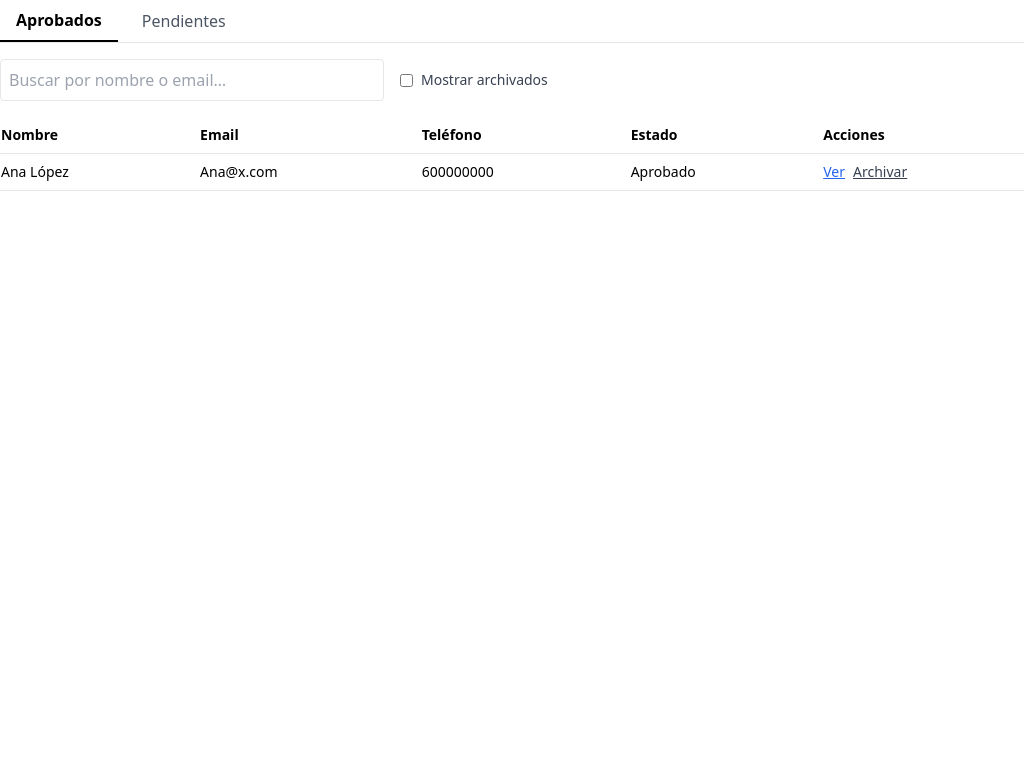
Test: AgendaTabs › opens worker detail modal on Ver click
The width and height of the screenshot is (1024, 768).
Click the button "Ver" at (834, 172), box [823,162,845,182]
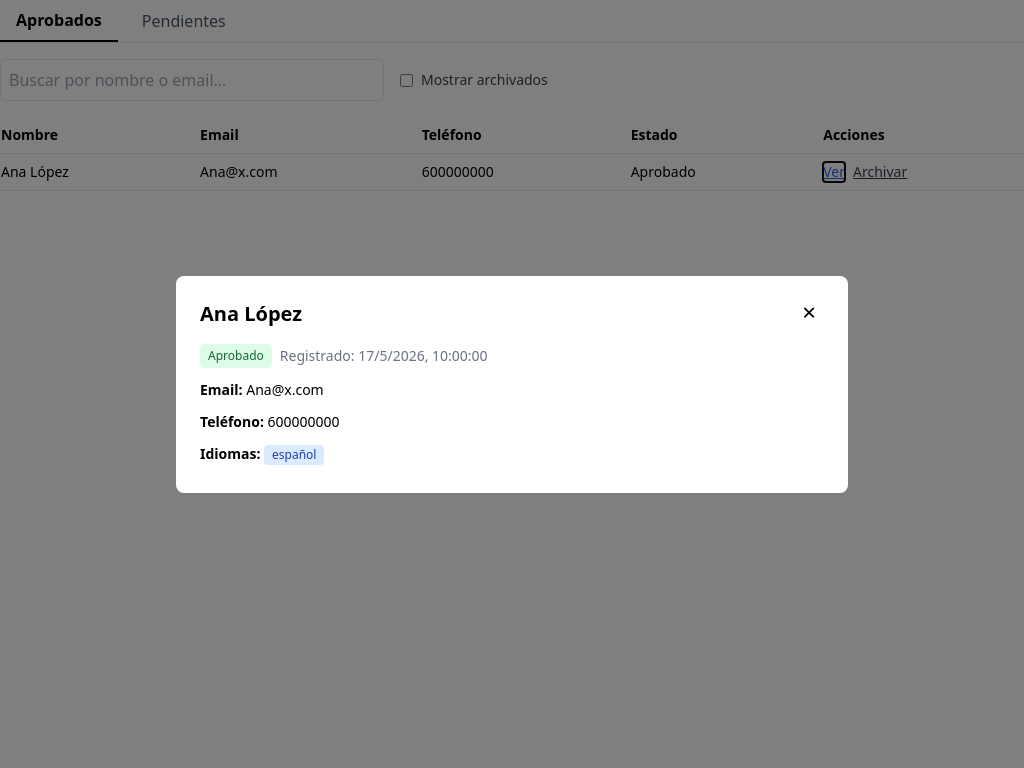
Check: the dialog is shown
